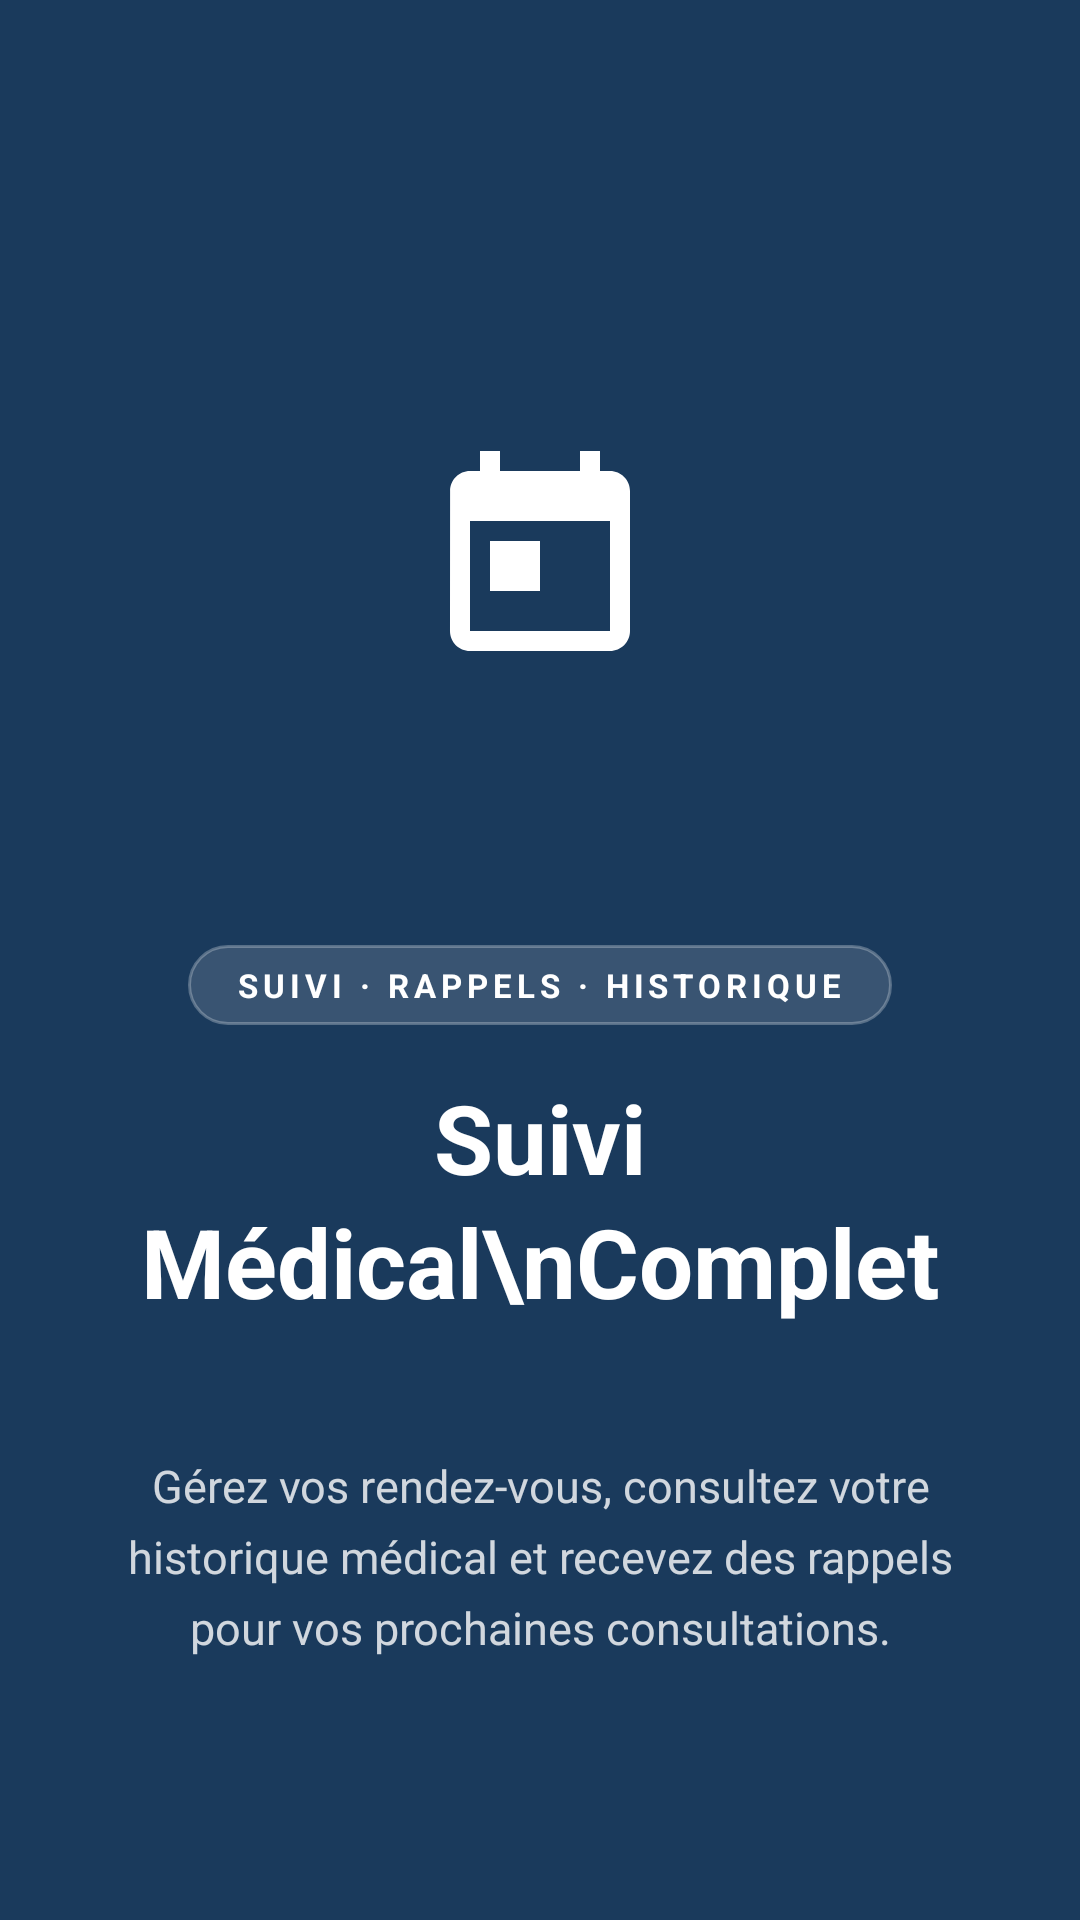

Named icons in this screenshot (1080×1920) and their centers, [x,y]:
calendar: [540,551]
